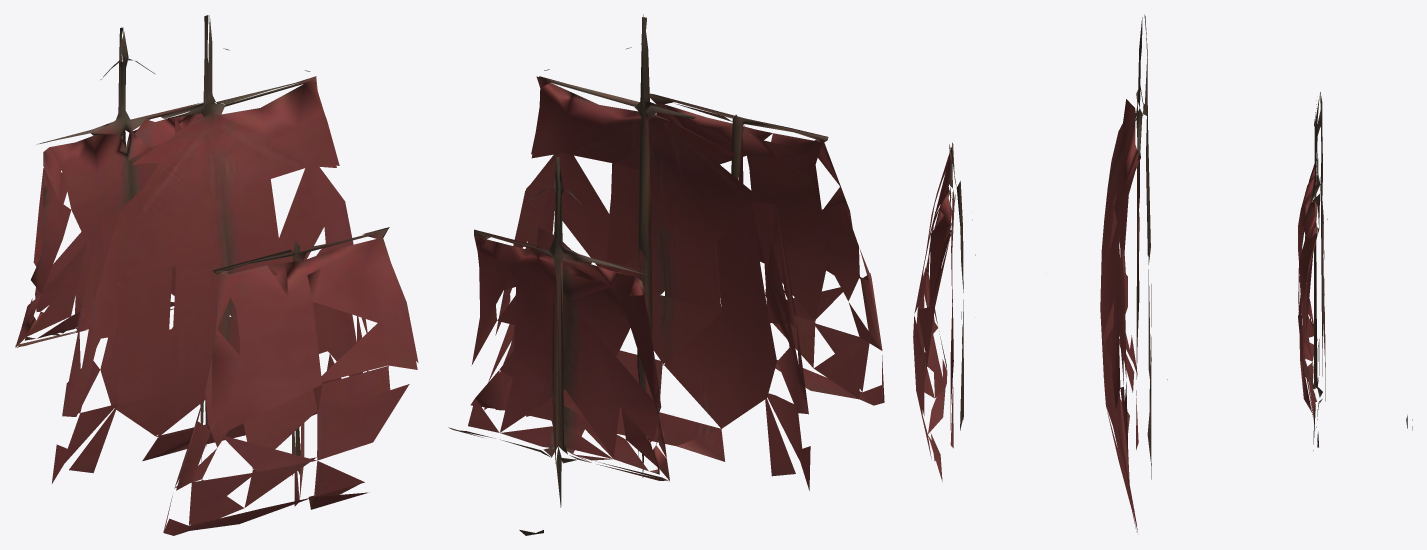
The model's file is buom-daits-rach.glb.
The picture shows the model from 3 angles, left to right: view 1: azimuth 30°, elevation 25°; view 2: azimuth 150°, elevation 25°; view 3: azimuth 270°, elevation 25°; orthographic projection. The views are drawn at different scales.
Parts seen in each view (by area): view 1: Buom_DaiTS_Rach; view 2: Buom_DaiTS_Rach; view 3: Buom_DaiTS_Rach.
Part boxes in pixels (bbox=[...]): Buom_DaiTS_Rach: bbox=[15, 15, 418, 535]; Buom_DaiTS_Rach: bbox=[448, 14, 884, 535]; Buom_DaiTS_Rach: bbox=[913, 14, 1412, 534].
Bounding box in the file's own units: 8.68 × 11.83 × 11.43.
Materials: 1 (1 with a texture image).
